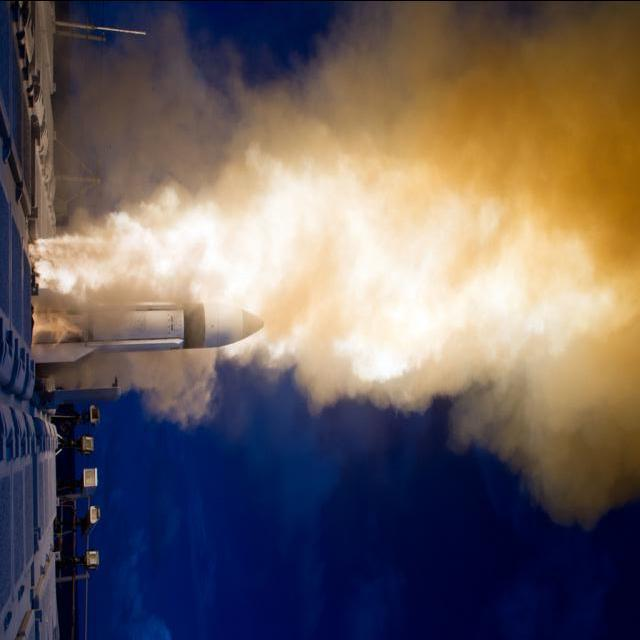missile: (32, 292, 266, 362)
